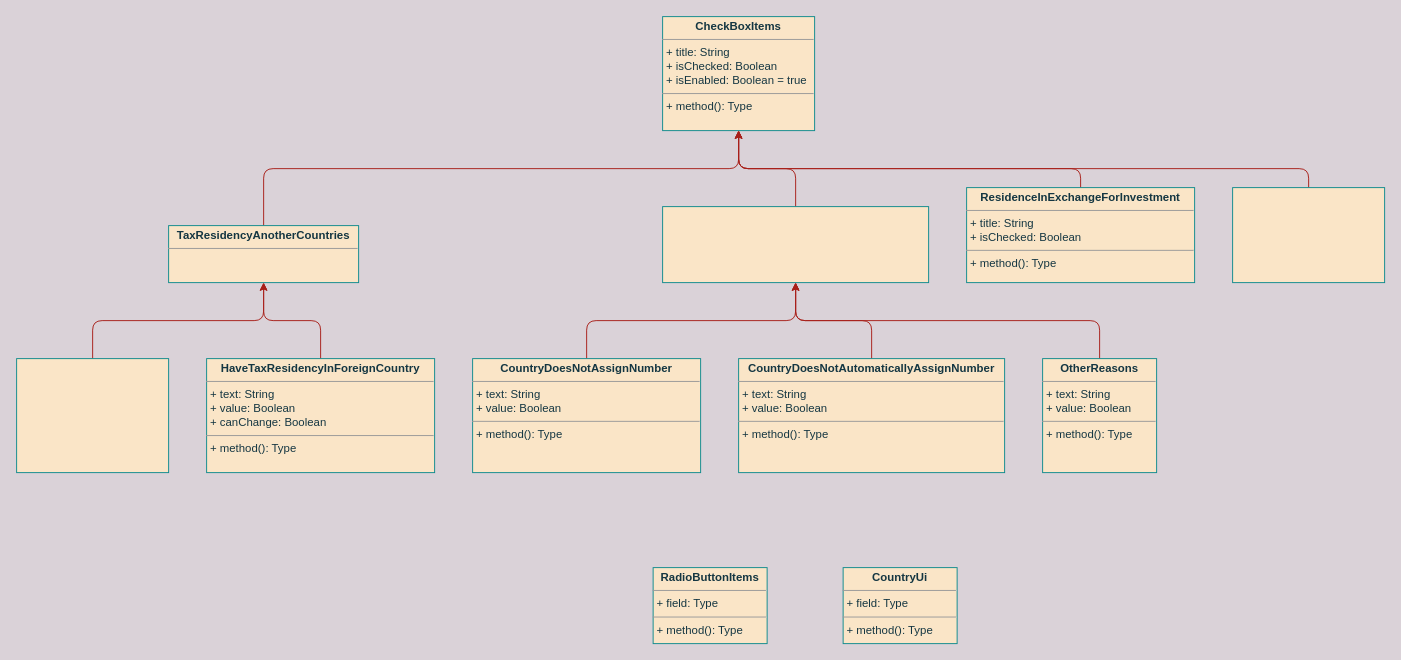
Some shapes in this 1401 by 660 pixel diagram are drawn without their labels. The shapes that lost their labels are listed below. From the top down, each one's box as (x1, y1, x2, y2) in pixels, then its label:
(662, 206, 929, 283): ReasonForNotHavingNumber abstract fun disable(): ReasonForNotHavingNumber
(1232, 187, 1385, 283): HaveUSATaxResidency + title: String + isChecked: Boolean + method(): Type
(16, 358, 169, 473): HaveRussianTaxResidency + text: String + value: Boolean + method(): Type
